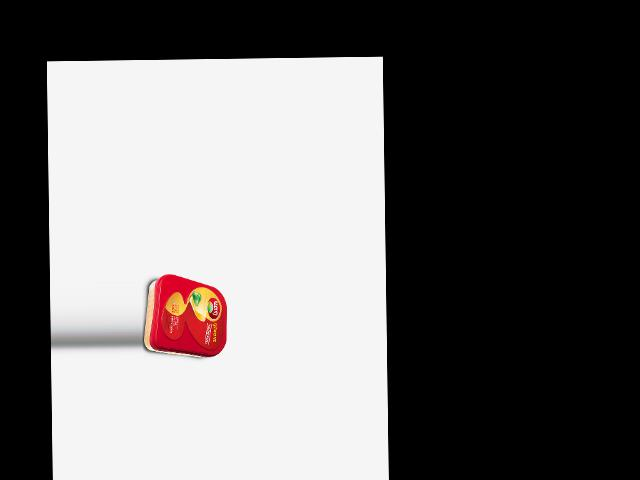cheese: (142, 273, 227, 358)
